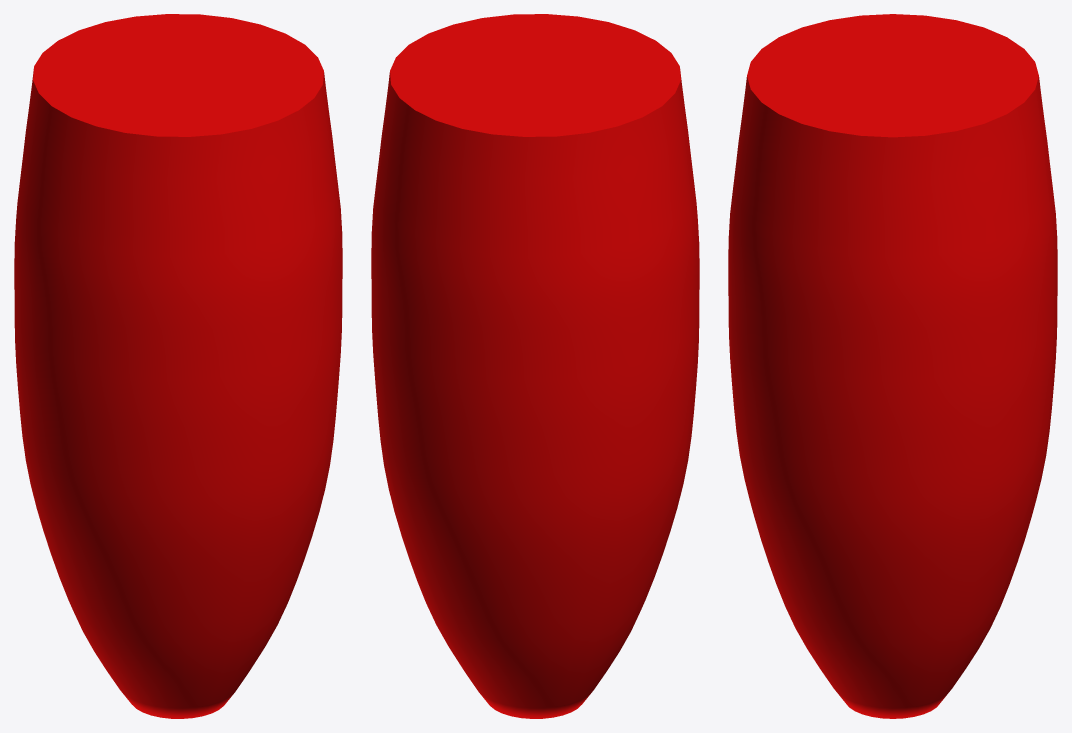
The model's file is Liquid.fbx.
The picture shows the model from 3 angles, left to right: view 1: azimuth 30°, elevation 25°; view 2: azimuth 150°, elevation 25°; view 3: azimuth 270°, elevation 25°; orthographic projection.
Parts seen in each view (by area): view 1: Liquid2; view 2: Liquid2; view 3: Liquid2.
Boxes of the visible parts, x1=… form: Liquid2: x1=14, y1=14, x2=342, y2=718; Liquid2: x1=371, y1=14, x2=699, y2=718; Liquid2: x1=728, y1=14, x2=1057, y2=718.
Bounding box in the file's own units: 1.07 × 2.23 × 1.07.
